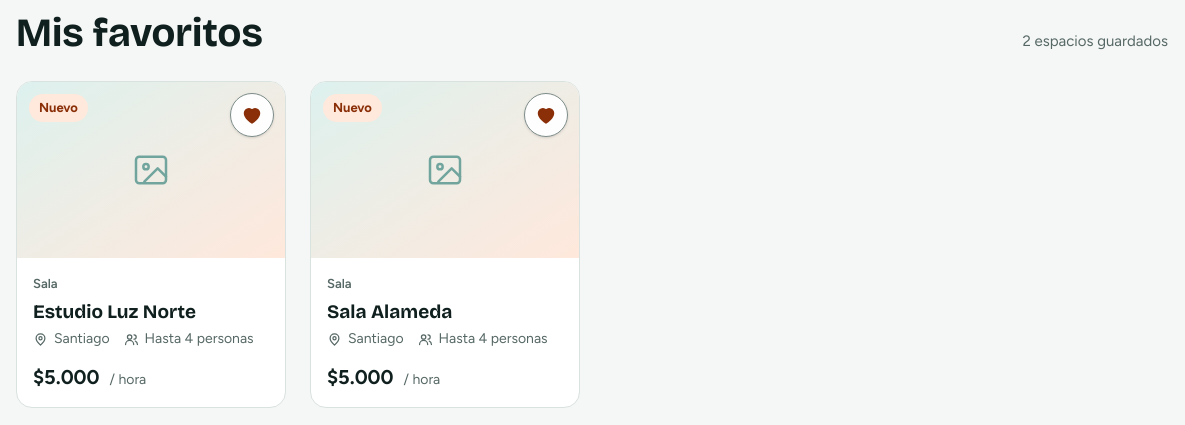
it: FavoritesPage › desmarcar un corazón saca la tarjeta de la lista al instante
The width and height of the screenshot is (1185, 425).
Click the button named "Guardar en favoritos: Estudio Luz Norte".
click(252, 115)  # box top-left (230, 93), bottom-right (274, 137)
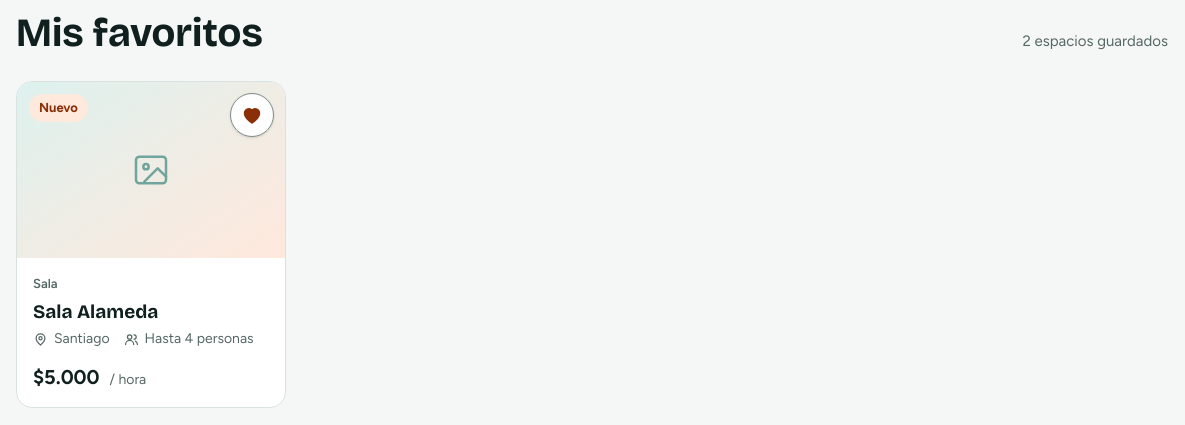
Check: the heading "Sala Alameda" is shown, box top-left (33, 300), bottom-right (158, 322)
Check: the link "Estudio Luz Norte" is gone
